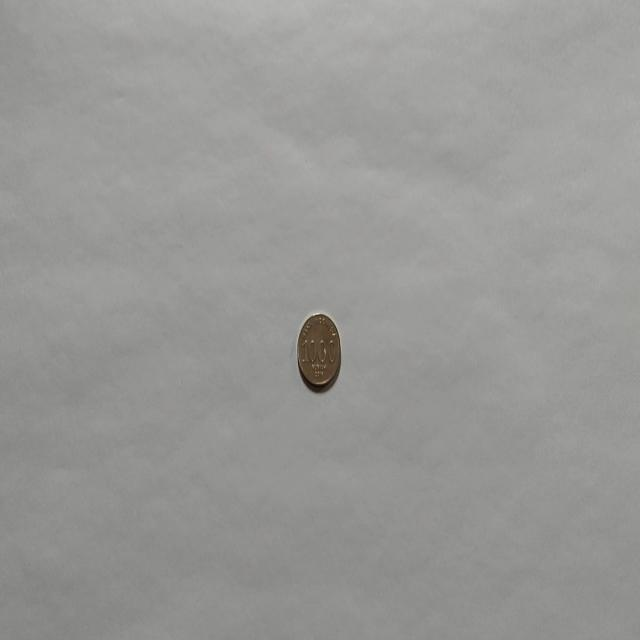seribu rupiah koin: (296, 310, 342, 391)
